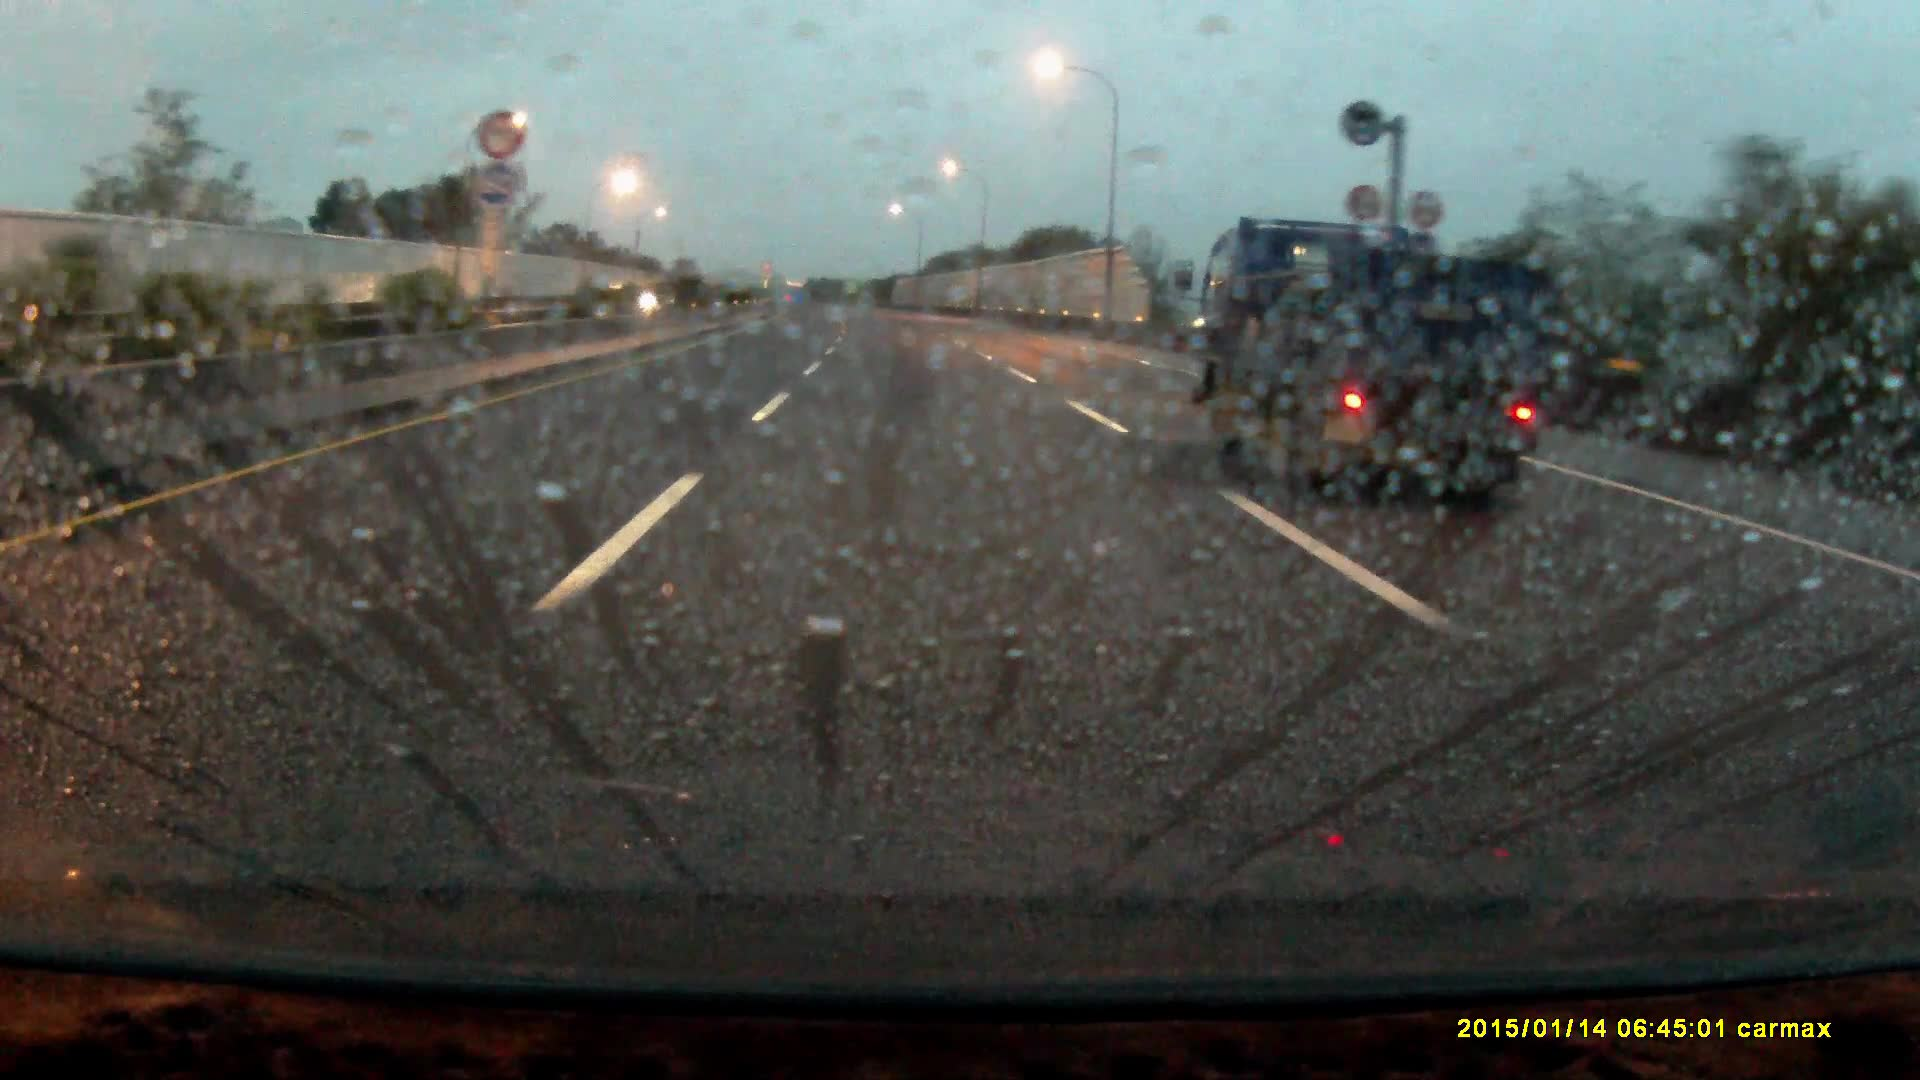vehicle: (1207, 204, 1594, 525)
